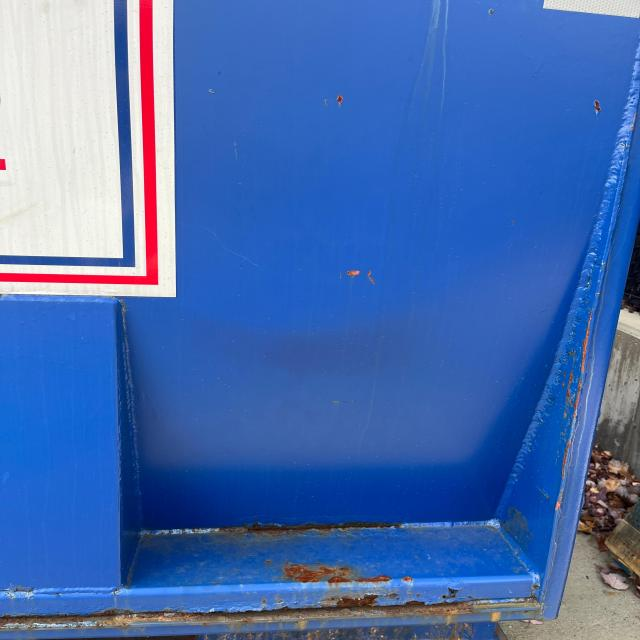Filiform Corrosion: (281, 561, 393, 609), (247, 524, 377, 539)
